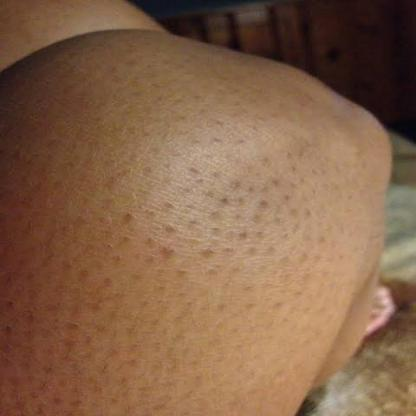Chicken Skin: (14, 64, 303, 413)
